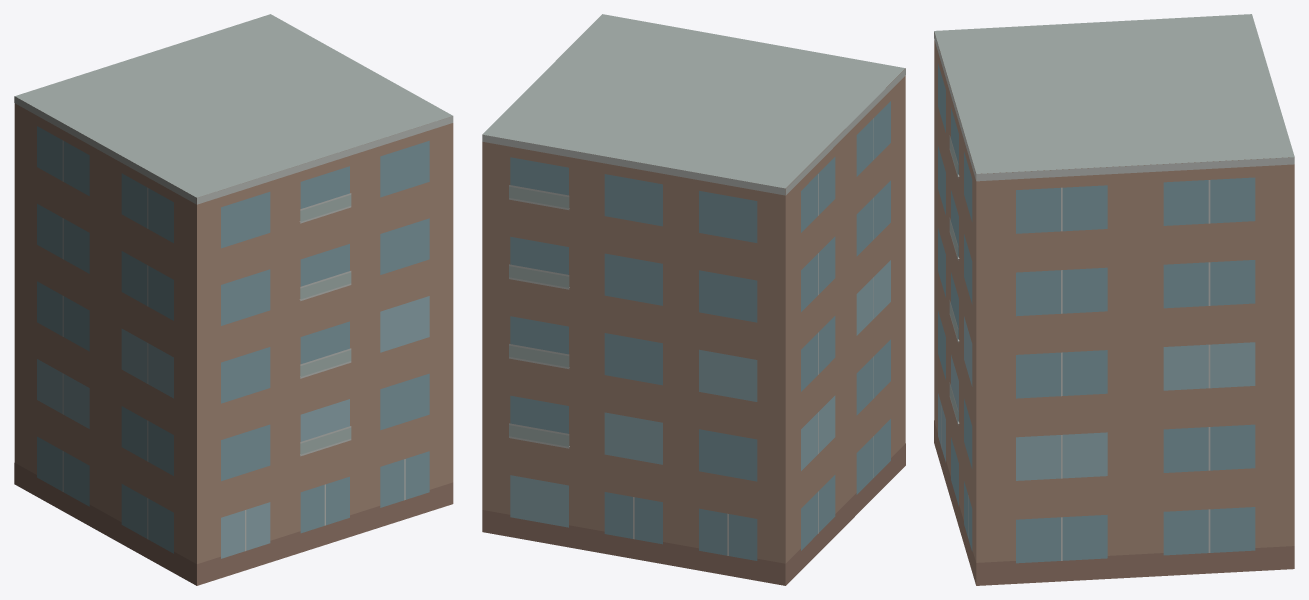
Rendered from survey-upis-32975243.glb.
The picture shows the model from 3 angles, left to right: view 1: azimuth 30°, elevation 25°; view 2: azimuth 150°, elevation 25°; view 3: azimuth 270°, elevation 25°; orthographic projection. The views are drawn at different scales.
Visible parts, largest first — view 1: survey-upis-32975243.tmp; view 2: survey-upis-32975243.tmp; view 3: survey-upis-32975243.tmp.
Part boxes in pixels (box(x1,y1,x2,y2)): survey-upis-32975243.tmp: box(14, 14, 453, 585); survey-upis-32975243.tmp: box(482, 14, 905, 585); survey-upis-32975243.tmp: box(934, 14, 1294, 585).
Size of the model in its own units: 11.42 by 13.7 by 10.88.
